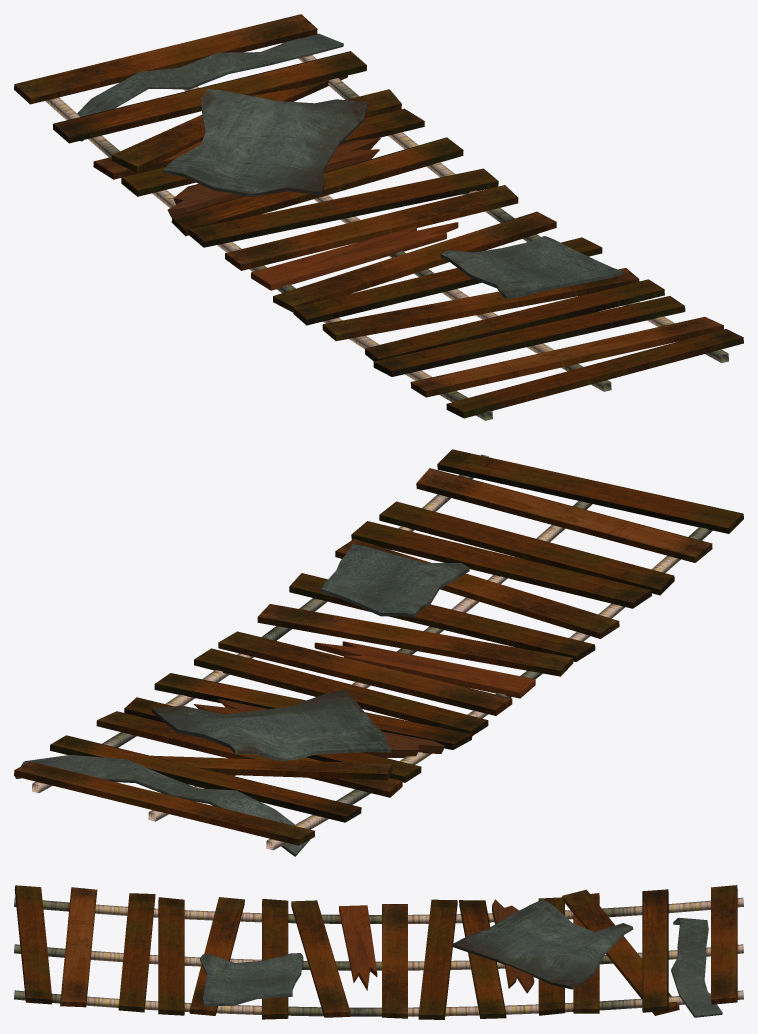
The model's file is brokenBridge.fbx.
The picture shows the model from 3 angles, top to bottom: view 1: azimuth 30°, elevation 25°; view 2: azimuth 150°, elevation 25°; view 3: azimuth 270°, elevation 25°; orthographic projection. The views are drawn at different scales.
Visible parts, largest first — view 1: geo_bridge_01, geo_metalPlate_c_01, geo_metalPlate_a_01, geo_metalPlate_d_02, geo_plank_b_01, geo_plank_c_01; view 2: geo_bridge_01, geo_metalPlate_c_01, geo_metalPlate_a_01, geo_metalPlate_d_02, geo_plank_b_01, geo_plank_c_01; view 3: geo_bridge_01, geo_metalPlate_c_01, geo_metalPlate_a_01, geo_metalPlate_d_02, geo_plank_b_01, geo_plank_c_01.
Part boxes in pixels (box(x1,y1,x2,y2)): geo_bridge_01: box(14, 14, 743, 420); geo_metalPlate_c_01: box(162, 89, 367, 196); geo_metalPlate_a_01: box(440, 236, 623, 299); geo_metalPlate_d_02: box(77, 33, 343, 141); geo_plank_b_01: box(251, 222, 458, 290); geo_plank_c_01: box(167, 138, 380, 217); geo_bridge_01: box(14, 449, 743, 850); geo_metalPlate_c_01: box(151, 689, 391, 761); geo_metalPlate_a_01: box(320, 544, 469, 617); geo_metalPlate_d_02: box(15, 755, 309, 856); geo_plank_b_01: box(314, 641, 535, 698); geo_plank_c_01: box(193, 698, 445, 757); geo_bridge_01: box(14, 885, 743, 1019); geo_metalPlate_c_01: box(452, 899, 633, 989); geo_metalPlate_a_01: box(200, 953, 303, 1006); geo_metalPlate_d_02: box(671, 917, 722, 1017); geo_plank_b_01: box(339, 905, 377, 990); geo_plank_c_01: box(492, 899, 534, 993).
Size of the model in its own units: 333 by 52.1 by 845.
